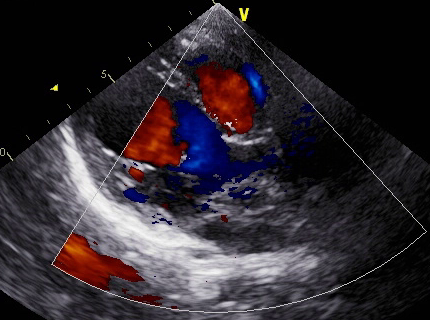AR: (159, 104, 202, 167)
